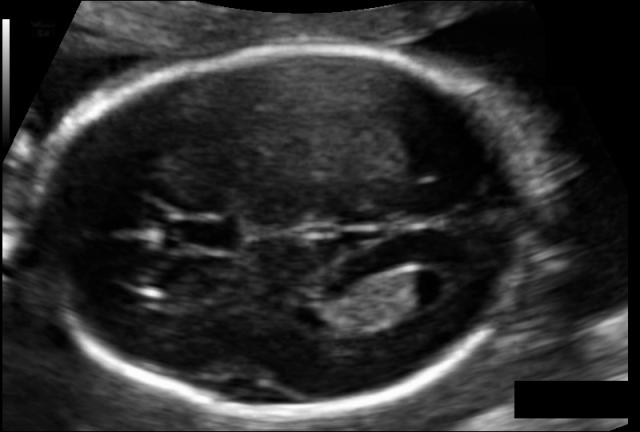CHOROID_PLEXUS: (292, 251, 442, 341)
CSP: (109, 193, 201, 281)
MIDLINE_FALX: (50, 188, 548, 274)
